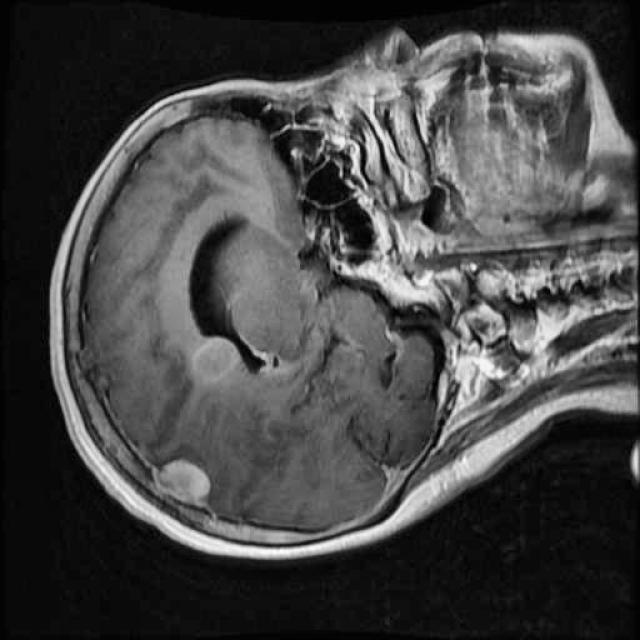Tumor: (136, 443, 232, 518)
